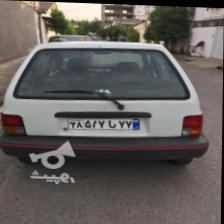plate: (70, 116, 142, 129)
